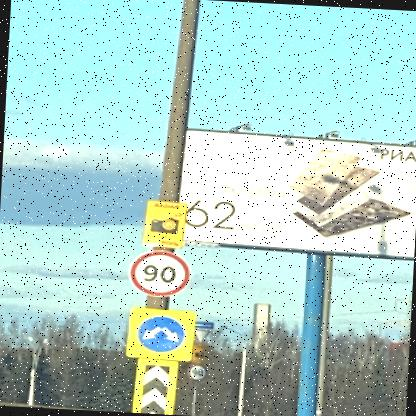speedlimit: (126, 248, 187, 297), (186, 364, 204, 378)
